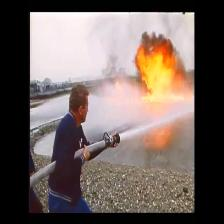fire: (139, 46, 175, 98)
smoke: (141, 32, 171, 43)
